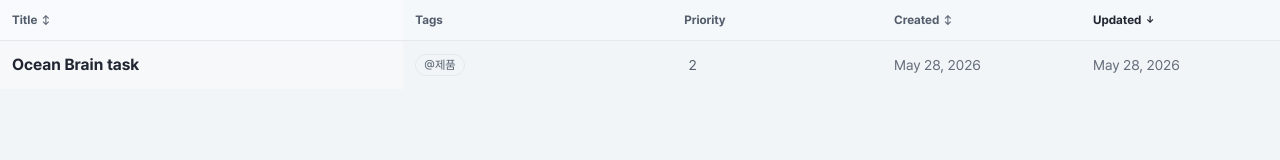
Test: editing table properties › discards the draft on Escape and returns focus to the cell
Step 1. Click the button named "Edit Priority for Ocean Brain task" → click(777, 65), box [684,53,870,77]
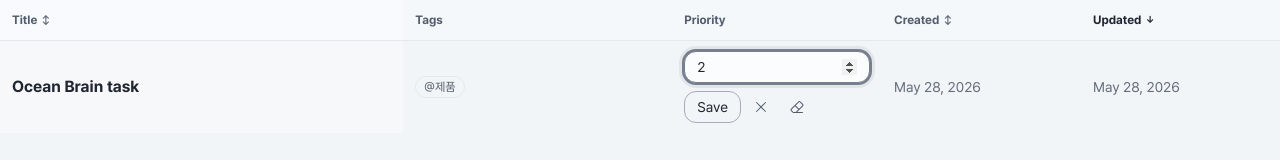
Step 2. Replace the text in the number field named "Priority value" with "3" → (777, 67), box [684,51,870,83]
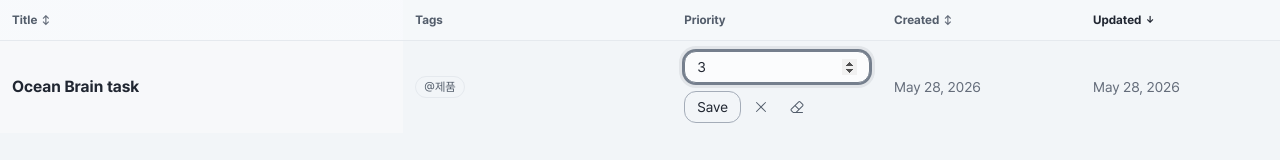
Step 3. Press Escape
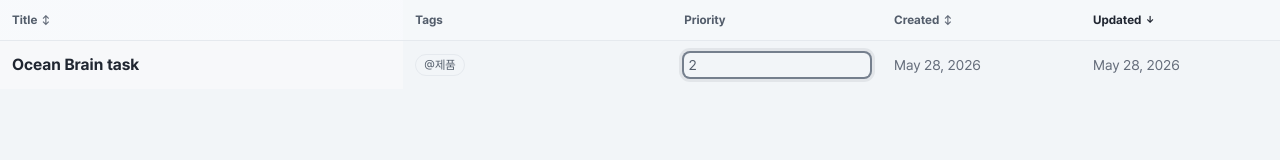
Check: the button named "Edit Priority for Ocean Brain task" reads "2", box [684,53,870,77]
